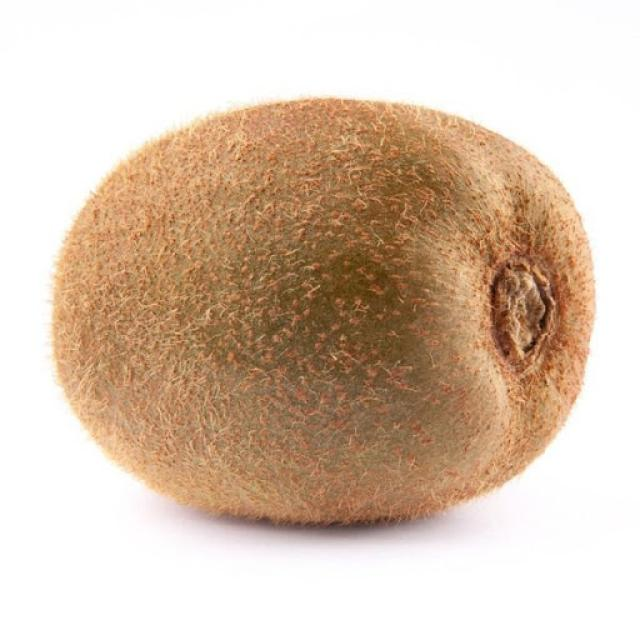kiwi: (46, 92, 602, 528)
